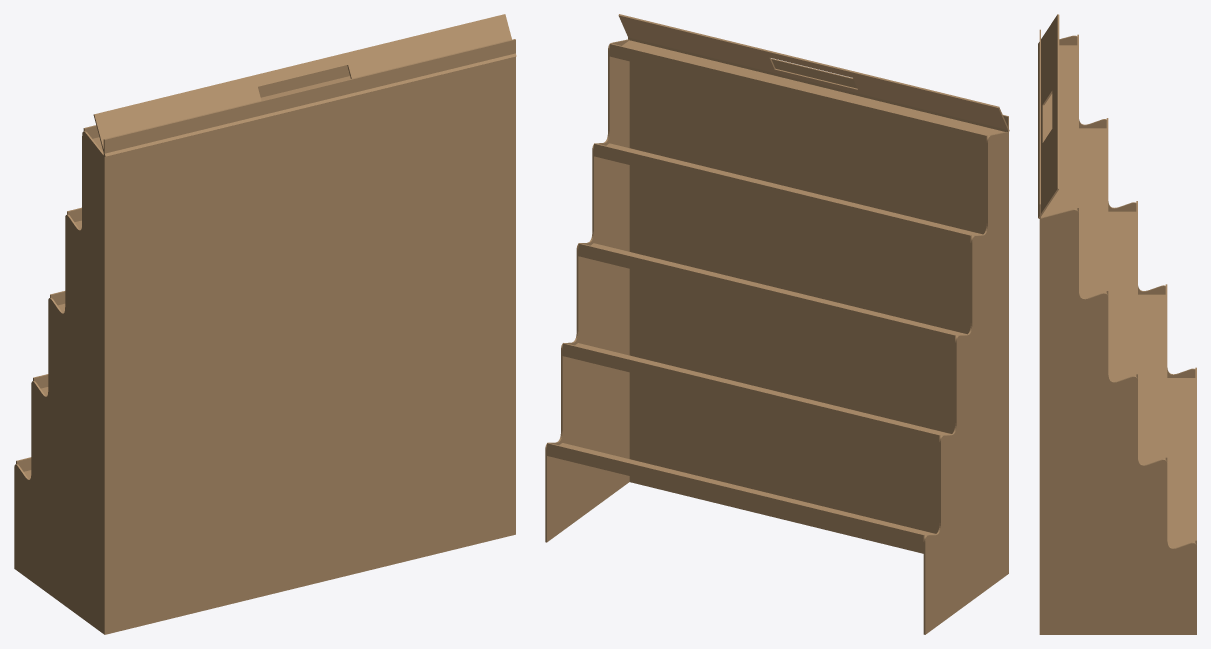
File: c3bfe2f3-5d17-4267-9024-82af92959ca7.glb
3 renders of one model, left to right at view 1: azimuth 30°, elevation 25°; view 2: azimuth 150°, elevation 25°; view 3: azimuth 270°, elevation 25°, orthographic. The views are drawn at different scales.
Visible parts, largest first — view 1: PLV_BackPanel, PLV_SidePanel_L, PLV_Header, PLV_Shelf_1, PLV_Lip_1, PLV_SidePanel_R; view 2: PLV_BackPanel, PLV_SidePanel_L, PLV_SidePanel_R, PLV_Header, PLV_Lip_1, PLV_Lip_4, PLV_Lip_3, PLV_Lip_5, PLV_Lip_2, PLV_Shelf_1, PLV_Shelf_2, PLV_Shelf_4 (+2 smaller); view 3: PLV_SidePanel_R, PLV_Shelf_3, PLV_Shelf_5, PLV_Shelf_4, PLV_Shelf_2, PLV_Shelf_1, PLV_Header, PLV_SidePanel_L, PLV_BackPanel, PLV_Lip_4, PLV_Lip_2, PLV_Lip_5 (+2 smaller).
Boxes of the visible parts, bbox=[...] form: PLV_BackPanel: bbox=[103, 39, 515, 634]; PLV_SidePanel_L: bbox=[14, 131, 106, 634]; PLV_Header: bbox=[93, 14, 516, 156]; PLV_Shelf_1: bbox=[92, 57, 514, 157]; PLV_Lip_1: bbox=[83, 65, 349, 138]; PLV_SidePanel_R: bbox=[514, 57, 515, 534]; PLV_BackPanel: bbox=[628, 37, 1008, 571]; PLV_SidePanel_L: bbox=[923, 132, 1008, 634]; PLV_SidePanel_R: bbox=[545, 39, 629, 542]; PLV_Header: bbox=[618, 14, 1009, 131]; PLV_Lip_1: bbox=[609, 43, 987, 146]; PLV_Lip_4: bbox=[562, 343, 940, 446]; PLV_Lip_3: bbox=[578, 243, 955, 346]; PLV_Lip_5: bbox=[547, 442, 924, 545]; PLV_Lip_2: bbox=[594, 143, 971, 246]; PLV_Shelf_1: bbox=[609, 40, 1004, 148]; PLV_Shelf_2: bbox=[594, 143, 982, 247]; PLV_Shelf_4: bbox=[562, 343, 951, 447]; PLV_SidePanel_R: bbox=[1039, 209, 1196, 634]; PLV_Shelf_3: bbox=[1108, 211, 1136, 381]; PLV_Shelf_5: bbox=[1167, 378, 1195, 547]; PLV_Shelf_4: bbox=[1138, 294, 1165, 464]; PLV_Shelf_2: bbox=[1079, 128, 1106, 298]; PLV_Shelf_1: bbox=[1041, 45, 1077, 217]; PLV_Header: bbox=[1038, 14, 1059, 218]; PLV_SidePanel_L: bbox=[1059, 35, 1195, 377]; PLV_BackPanel: bbox=[1039, 29, 1040, 632]; PLV_Lip_4: bbox=[1165, 284, 1167, 461]; PLV_Lip_2: bbox=[1106, 118, 1108, 295]; PLV_Lip_5: bbox=[1195, 367, 1196, 546].
Bounding box in the file's own units: 1.26 × 1.5 × 0.4843.
